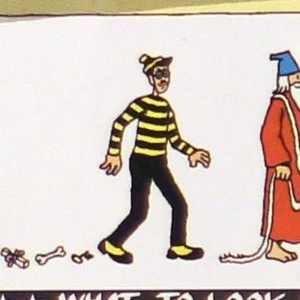Odlaw: (84, 40, 216, 260)
